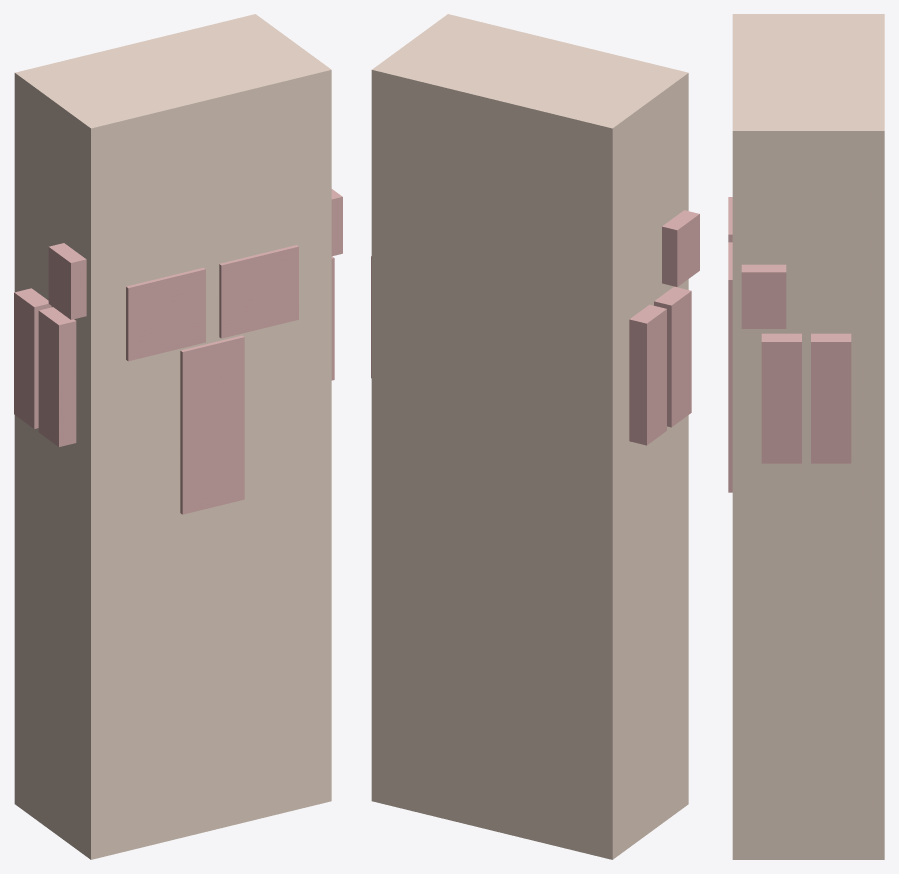
The model's file is diagnostic-test-model.glb.
3 views of the same model, side by side, from view 1: azimuth 30°, elevation 25°; view 2: azimuth 150°, elevation 25°; view 3: azimuth 270°, elevation 25° (orthographic).
Visible parts, largest first — view 1: Skin_Body, muscle_rectus_abdominis, muscle_pectoralis_major_L, muscle_pectoralis_major_R, muscle_biceps_brachii_R, muscle_triceps_brachii_R, muscle_deltoid_anterior_R, muscle_deltoid_anterior_L; view 2: Skin_Body, muscle_triceps_brachii_R, muscle_biceps_brachii_R, muscle_deltoid_anterior_R; view 3: Skin_Body, muscle_triceps_brachii_L, muscle_biceps_brachii_L, muscle_deltoid_anterior_L, muscle_rectus_abdominis, muscle_pectoralis_major_L.
Part boxes in pixels (bbox=[...]): Skin_Body: bbox=[14, 14, 331, 859]; muscle_rectus_abdominis: bbox=[180, 335, 244, 514]; muscle_pectoralis_major_L: bbox=[219, 245, 298, 338]; muscle_pectoralis_major_R: bbox=[126, 267, 205, 361]; muscle_biceps_brachii_R: bbox=[38, 307, 76, 446]; muscle_triceps_brachii_R: bbox=[14, 288, 51, 428]; muscle_deltoid_anterior_R: bbox=[48, 243, 86, 319]; muscle_deltoid_anterior_L: bbox=[331, 189, 342, 256]; Skin_Body: bbox=[371, 14, 688, 859]; muscle_triceps_brachii_R: bbox=[629, 304, 666, 445]; muscle_biceps_brachii_R: bbox=[654, 286, 691, 427]; muscle_deltoid_anterior_R: bbox=[662, 210, 699, 286]; Skin_Body: bbox=[732, 14, 884, 859]; muscle_triceps_brachii_L: bbox=[811, 333, 851, 463]; muscle_biceps_brachii_L: bbox=[761, 333, 801, 463]; muscle_deltoid_anterior_L: bbox=[741, 264, 786, 328]; muscle_rectus_abdominis: bbox=[728, 353, 732, 492]; muscle_pectoralis_major_L: bbox=[728, 242, 732, 352].
Size of the model in its own units: 0.71 by 1.8 by 0.35.
